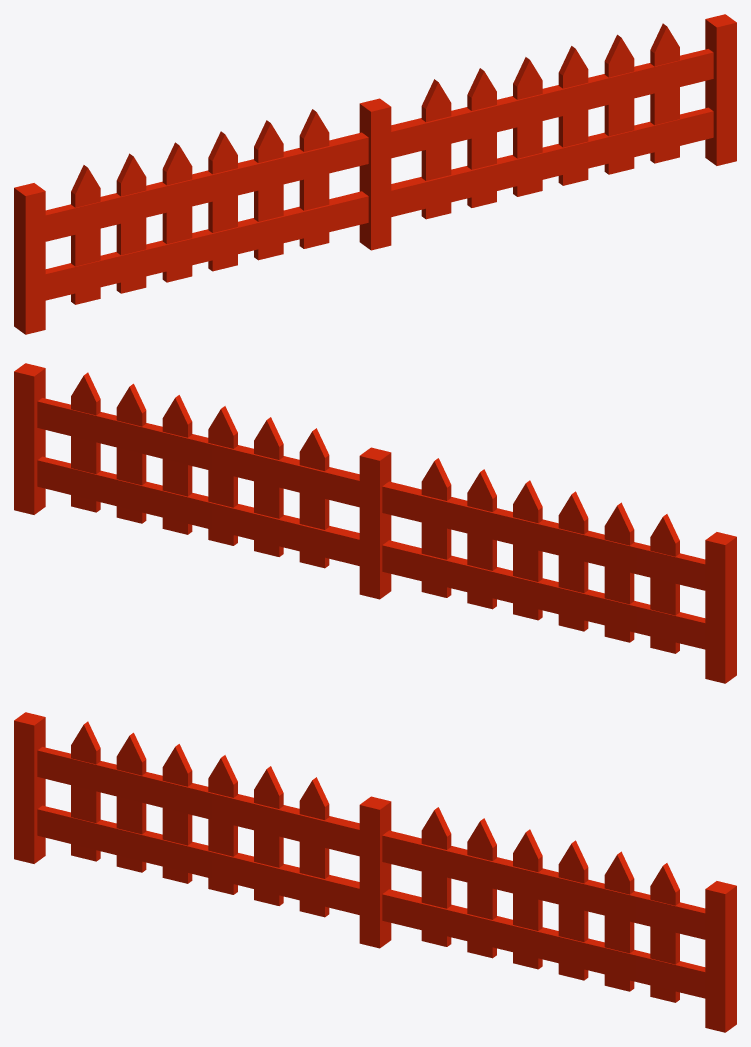
The model's file is SM_Fence_Picket.fbx.
3 views of the same model, one above another, from view 1: azimuth 30°, elevation 25°; view 2: azimuth 150°, elevation 25°; view 3: azimuth 330°, elevation 25° (orthographic).
Visible parts, largest first — view 1: SM_Fence_Picket; view 2: SM_Fence_Picket; view 3: SM_Fence_Picket.
Part boxes in pixels (x1,y1,x2,y2): SM_Fence_Picket: (14,14,736,334); SM_Fence_Picket: (14,363,736,683); SM_Fence_Picket: (14,712,736,1032).
Bounding box in the file's own units: 231 × 45.98 × 6.49.
